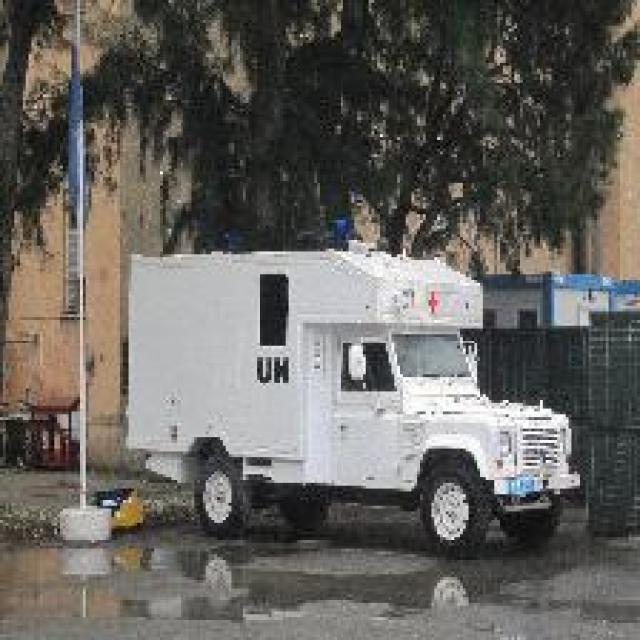Ambulance: (120, 234, 580, 557)
